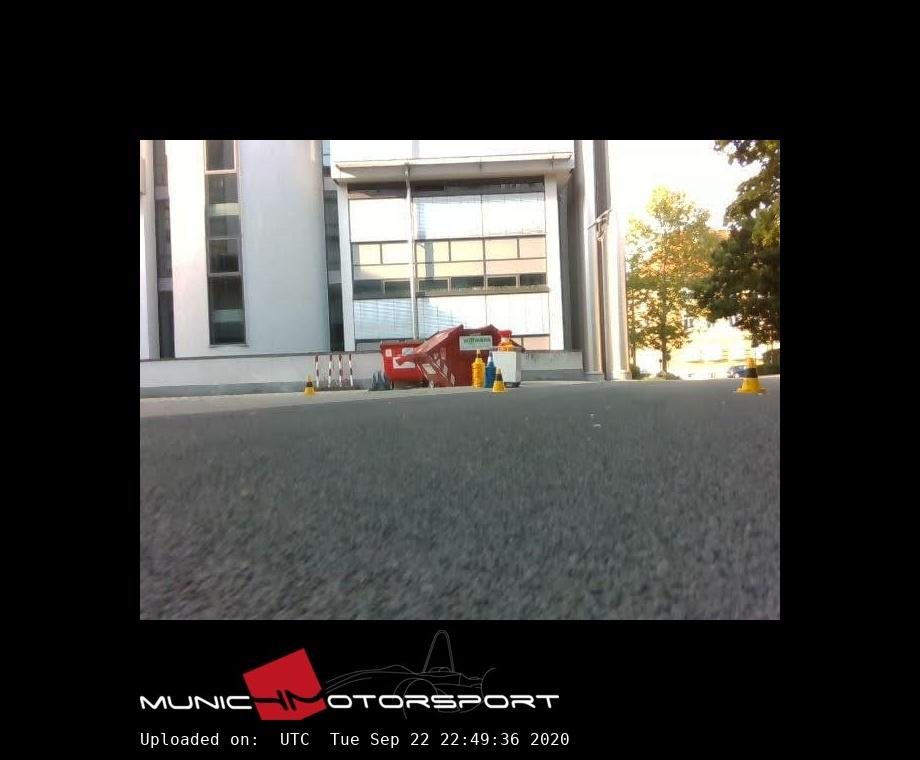yellow_cone: (736, 359, 765, 393), (491, 367, 507, 393), (303, 376, 315, 395), (473, 350, 485, 364)
